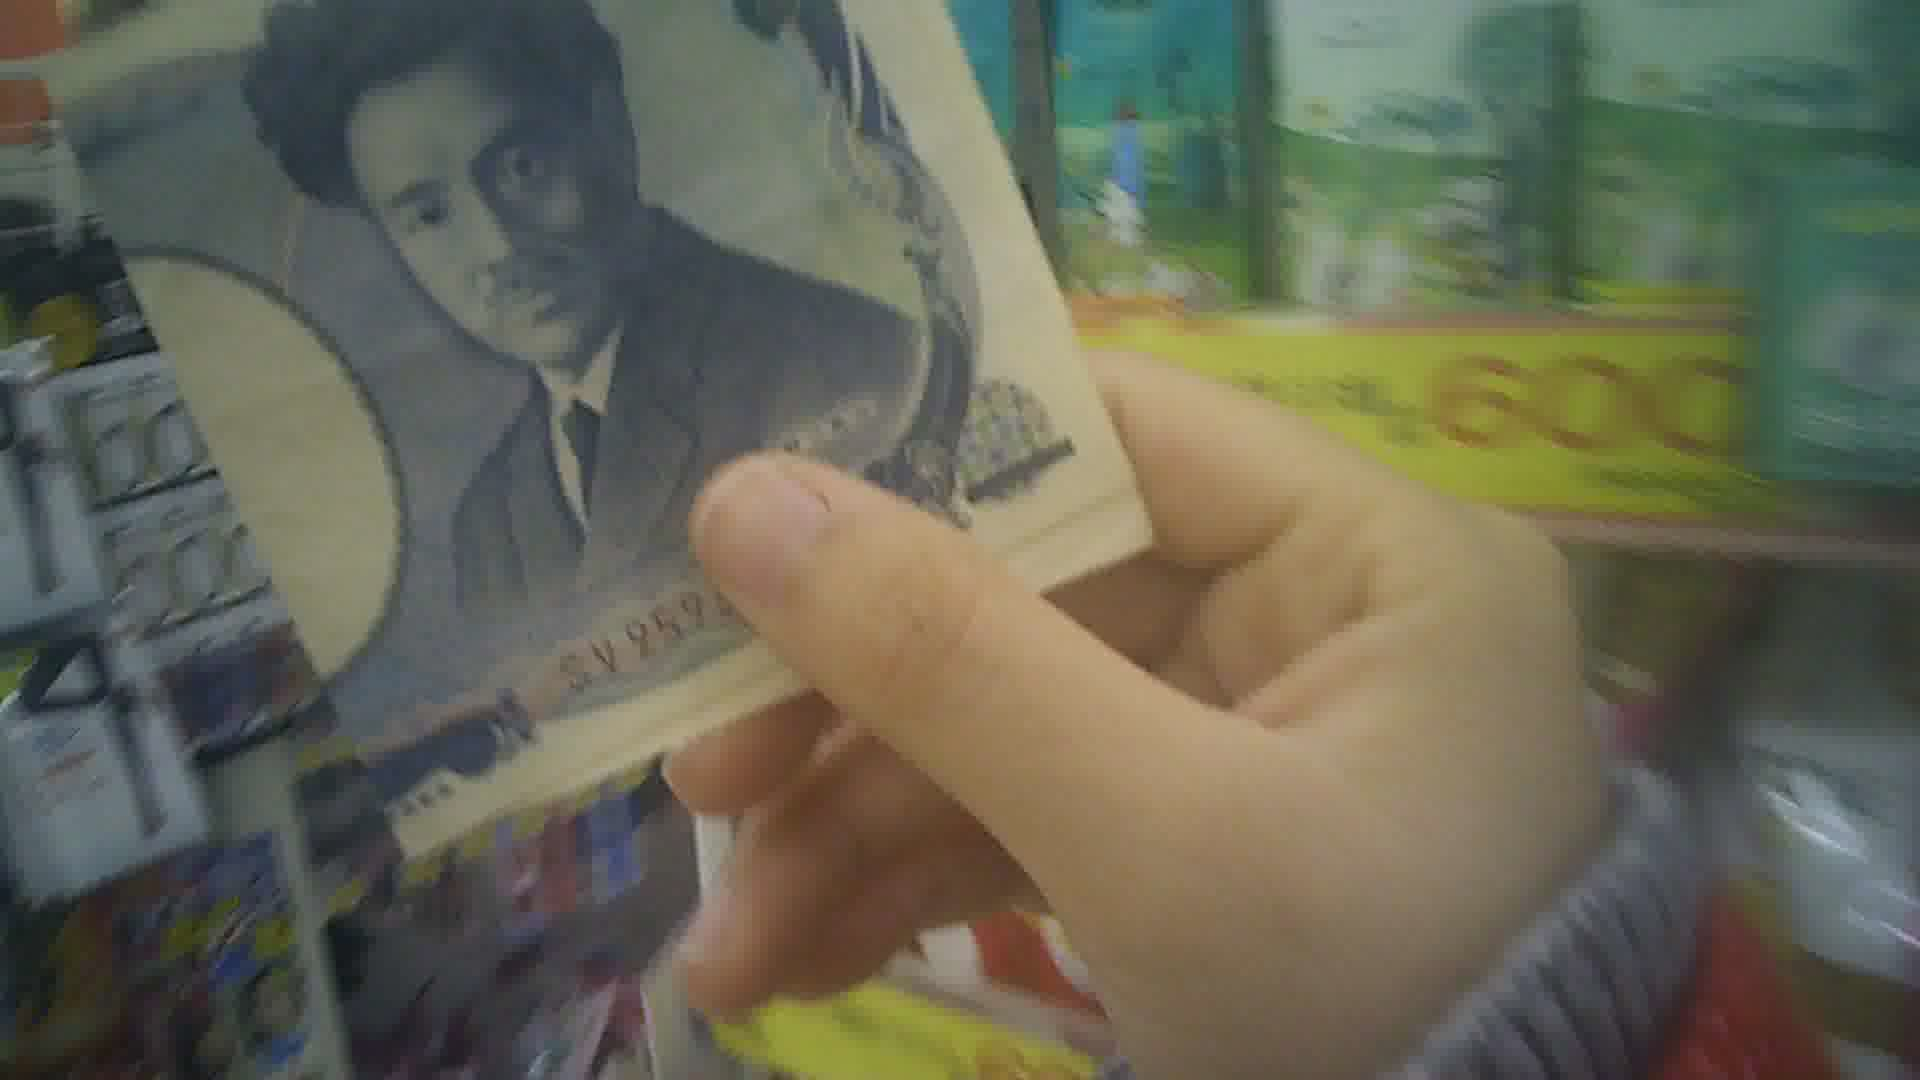1,000 Yen: (41, 3, 1193, 858)
